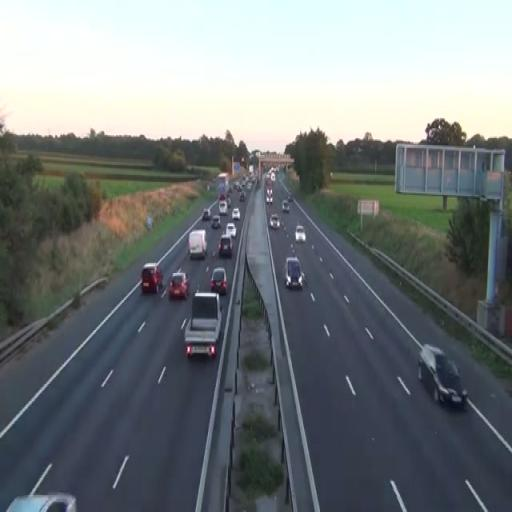Car: (417, 343, 468, 409), (142, 262, 163, 294), (284, 256, 303, 290), (168, 271, 190, 299), (210, 267, 228, 296), (218, 233, 233, 259), (295, 225, 306, 243), (226, 223, 236, 238), (270, 213, 280, 228), (211, 216, 221, 230), (232, 207, 240, 221)
Truck: (182, 289, 222, 360), (188, 229, 208, 260)
